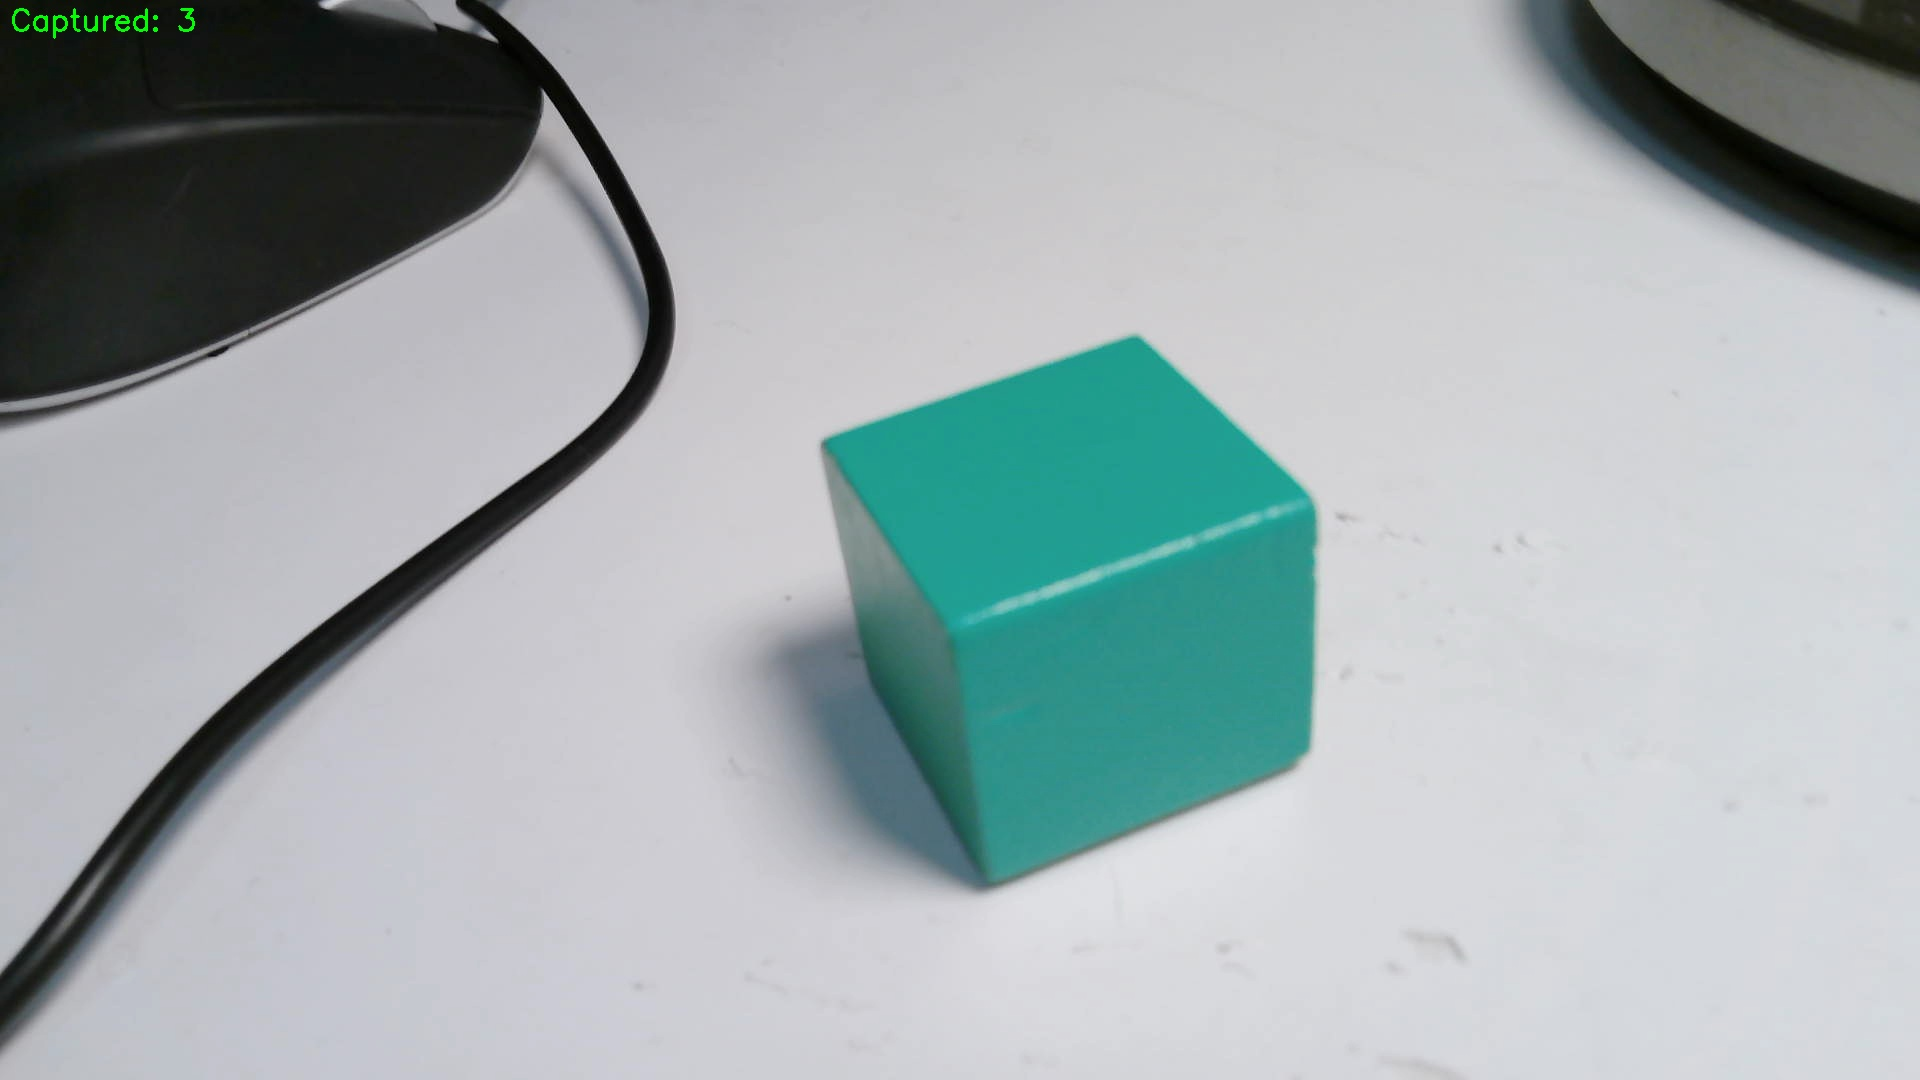green: (818, 338, 1317, 881)
